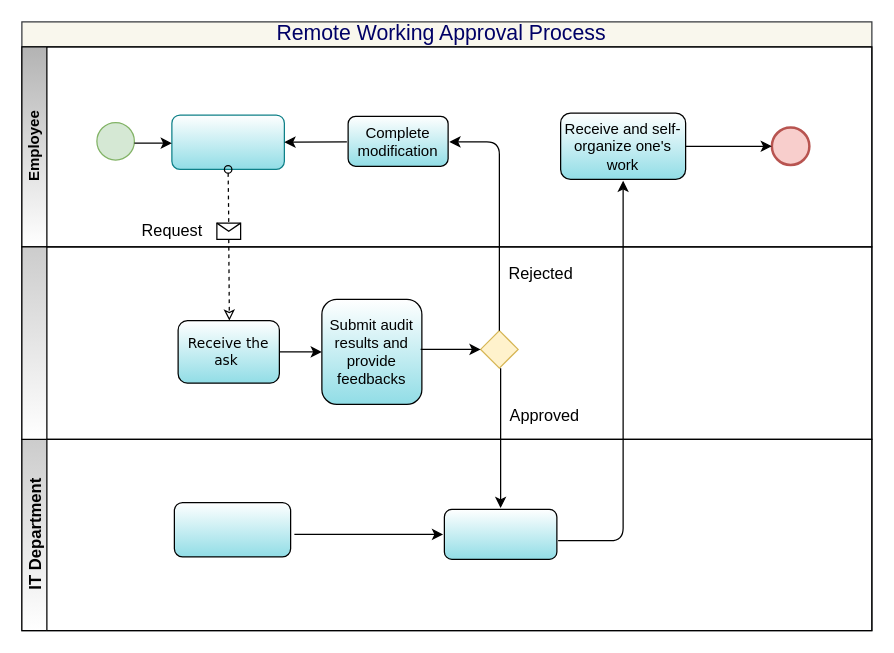
Some shapes in this 894 by 653 pixel diagram are drawn without their labels. Here are the shapes that lost their labels. From the top down, the box of each, then its label:
(171, 114, 284, 169): Record one's own planned hours and resources needed
(21, 246, 872, 439): Direct Supervisor
(173, 501, 291, 557): Create a Shared Calendar
(443, 508, 557, 559): Update system
